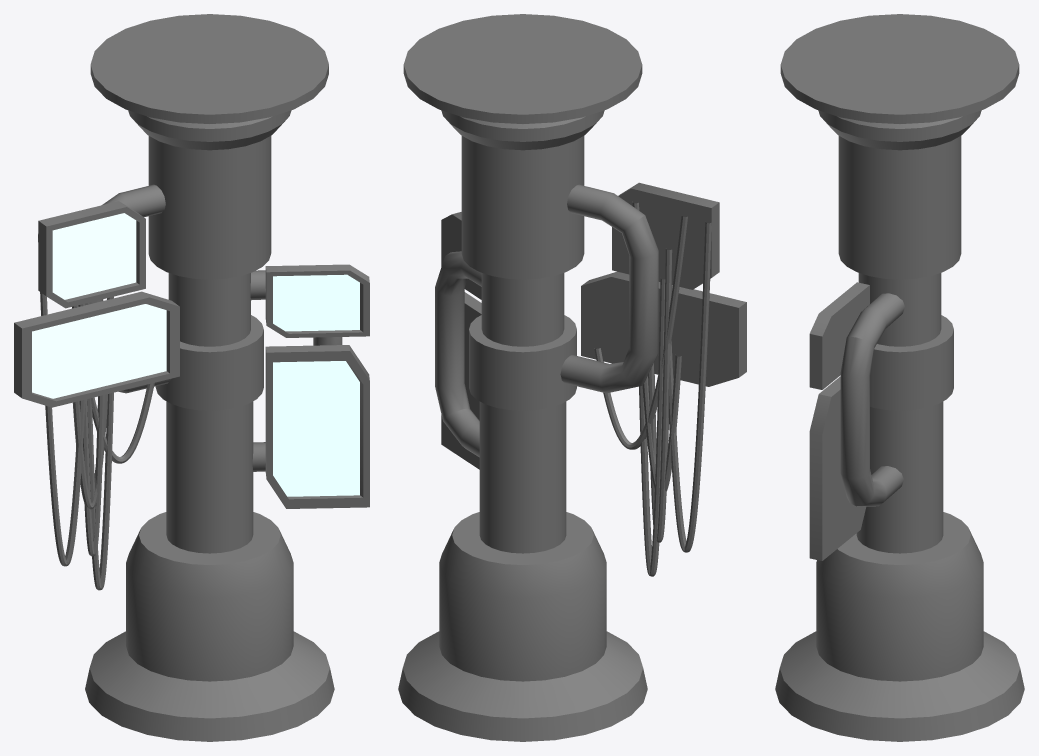
File: Ekrany_01.fbx
The picture shows the model from 3 angles, left to right: view 1: azimuth 30°, elevation 25°; view 2: azimuth 150°, elevation 25°; view 3: azimuth 270°, elevation 25°; orthographic projection.
Parts seen in each view (by area): view 1: Vert.001; view 2: Vert.001; view 3: Vert.001.
Part boxes in pixels (x1,y1,x2,y2): Vert.001: [14, 14, 369, 741]; Vert.001: [398, 14, 746, 741]; Vert.001: [775, 14, 1024, 741].
Size of the model in its own units: 1.27 by 2.33 by 0.8424.
